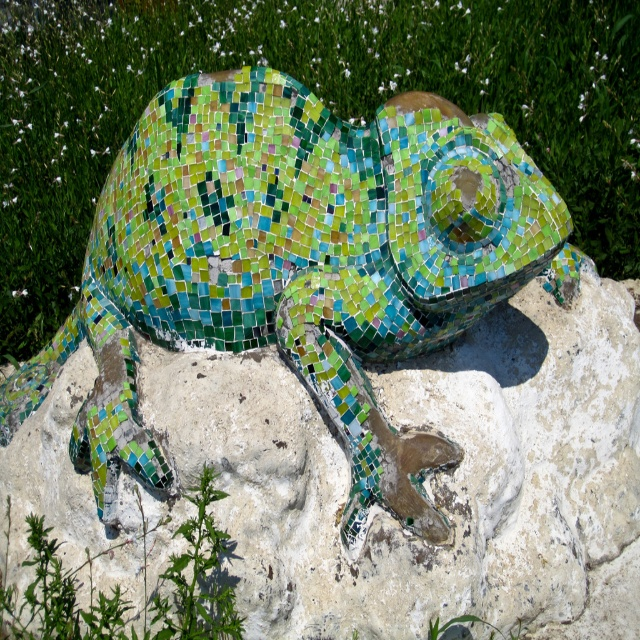Lizard: (2, 63, 586, 585)
